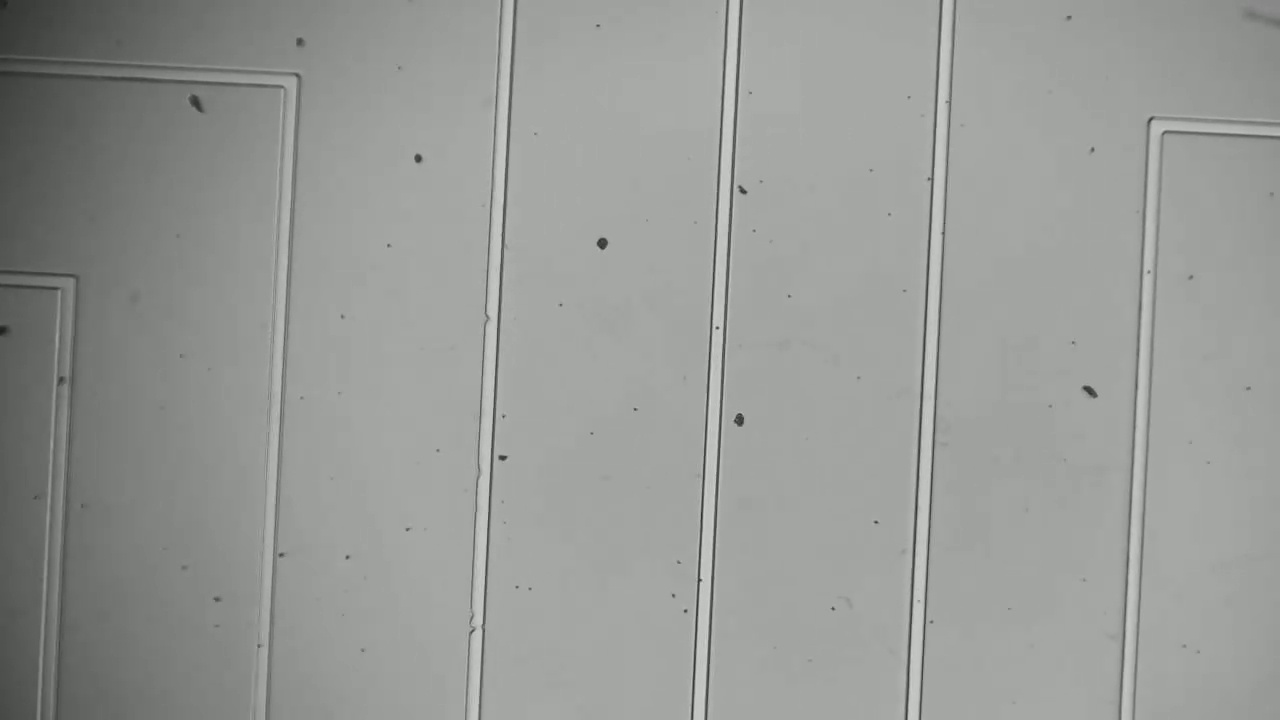edge_bite: (461, 608, 493, 643), (468, 455, 499, 487), (477, 306, 503, 329)
